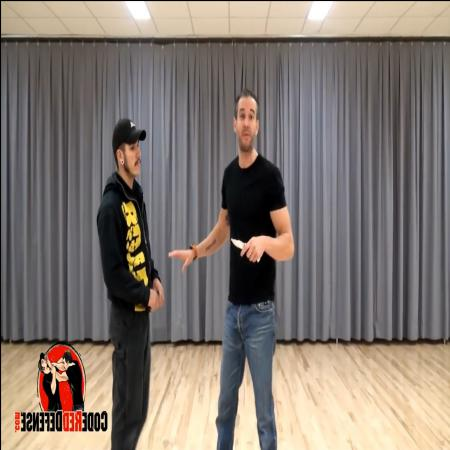long weapon: (228, 230, 261, 265)
